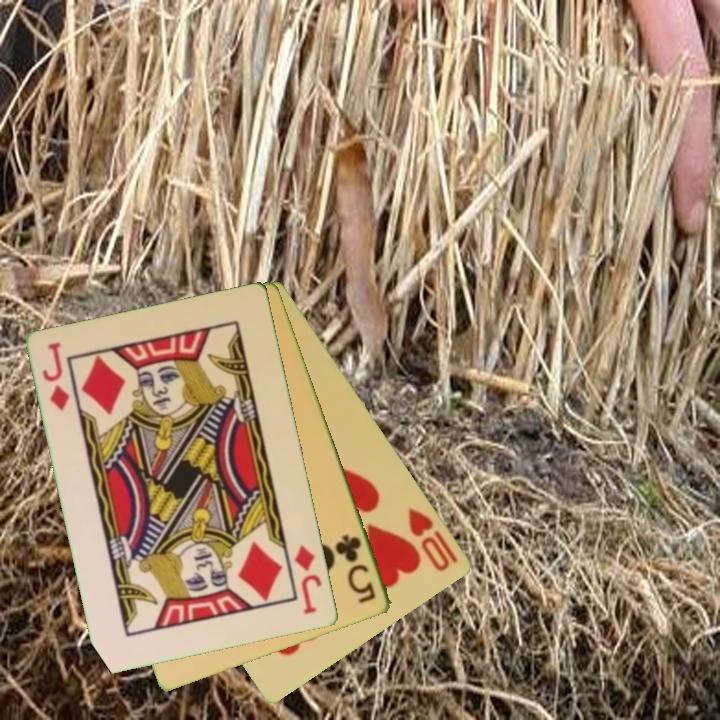10h: (405, 504, 462, 575)
5c: (332, 530, 379, 607)
Jd: (39, 338, 73, 414), (291, 542, 325, 617)
